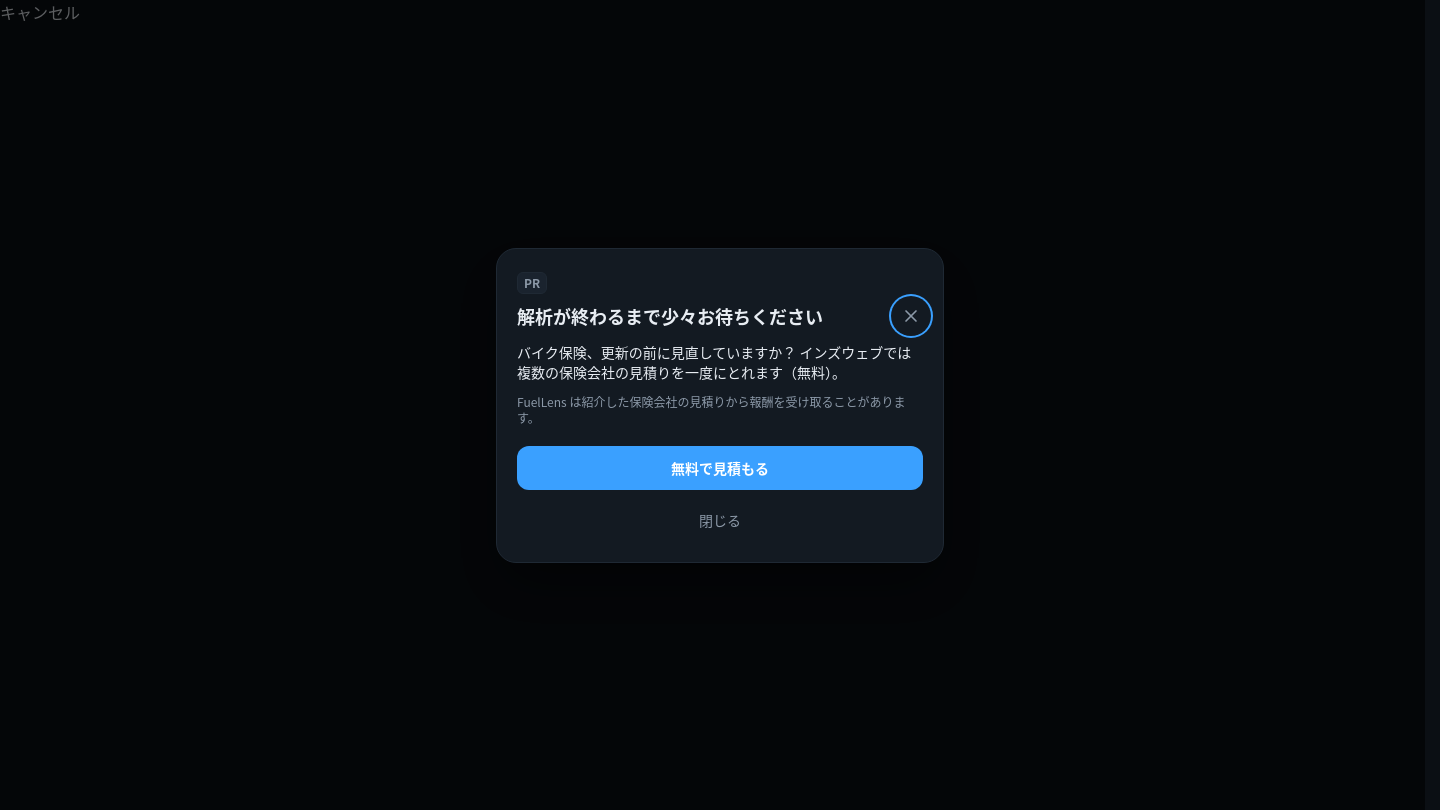
Test: useScanWaitPromo › 「閉じる」で閉じる
Click the button named "閉じる": (911, 316) x1=891 y1=296 x2=931 y2=336
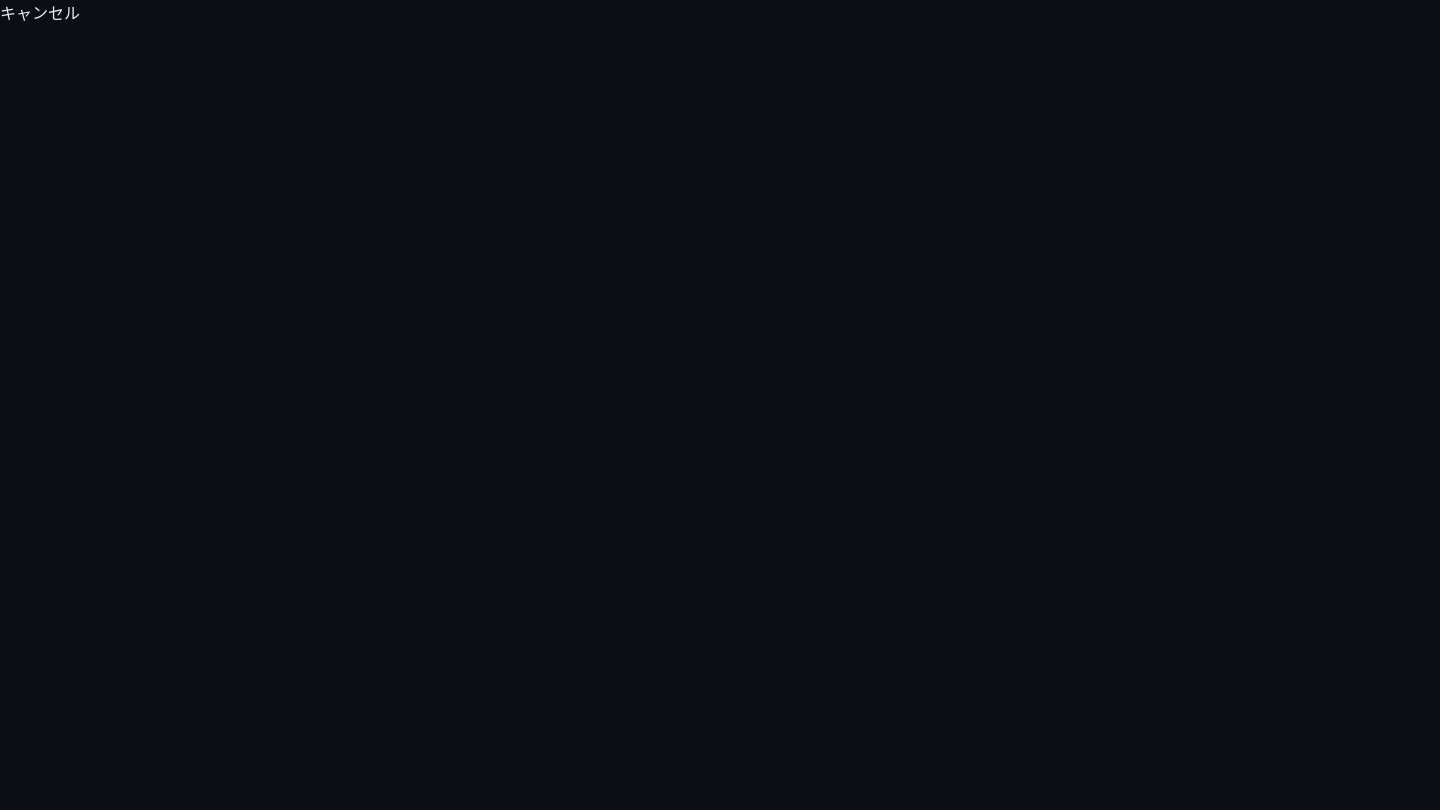
Check: the dialog is gone
